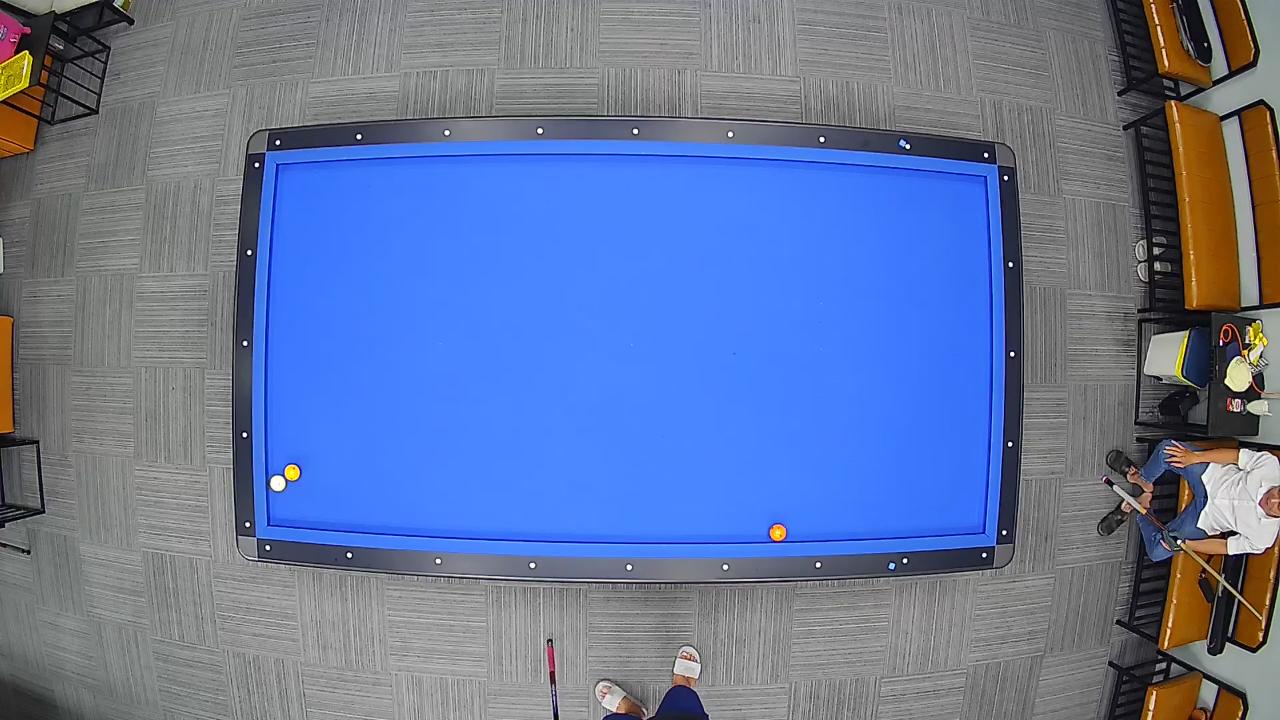Orange: (768, 523, 788, 544)
White: (269, 474, 287, 493)
Yellow: (282, 463, 302, 483)
